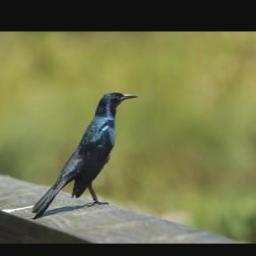Crow: (28, 90, 137, 219)
